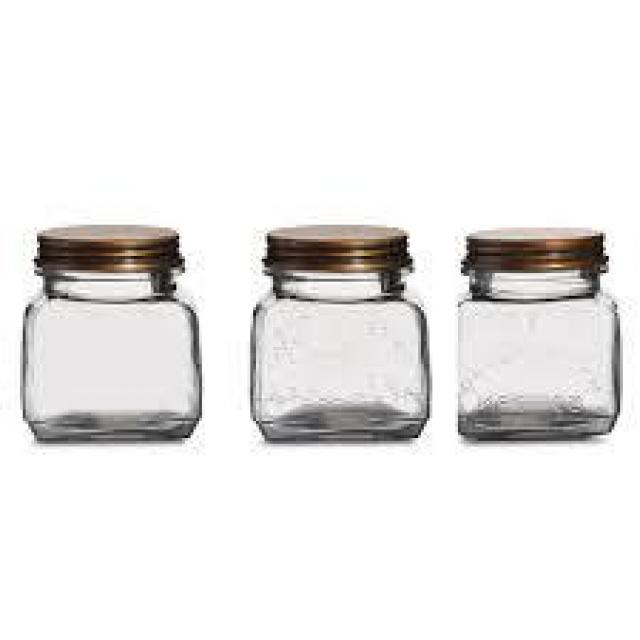non-organic waste: (20, 222, 208, 452)
